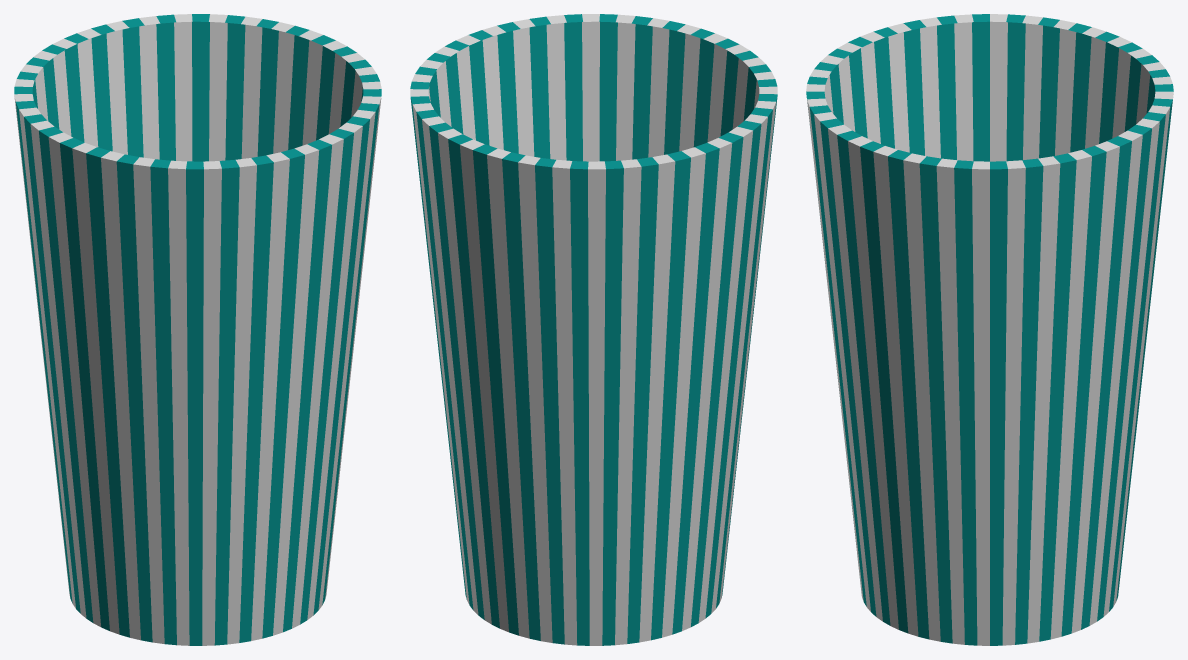
File: Cup Light Blue.glb
The picture shows the model from 3 angles, left to right: view 1: azimuth 30°, elevation 25°; view 2: azimuth 150°, elevation 25°; view 3: azimuth 270°, elevation 25°; orthographic projection.
Visible parts, largest first — view 1: Cone; view 2: Cone; view 3: Cone.
Boxes of the visible parts, x1,y1,x2,y2 form: Cone: (14,14,381,645); Cone: (410,14,777,645); Cone: (806,14,1173,645).
Size of the model in its own units: 0.2 by 0.3 by 0.2.
